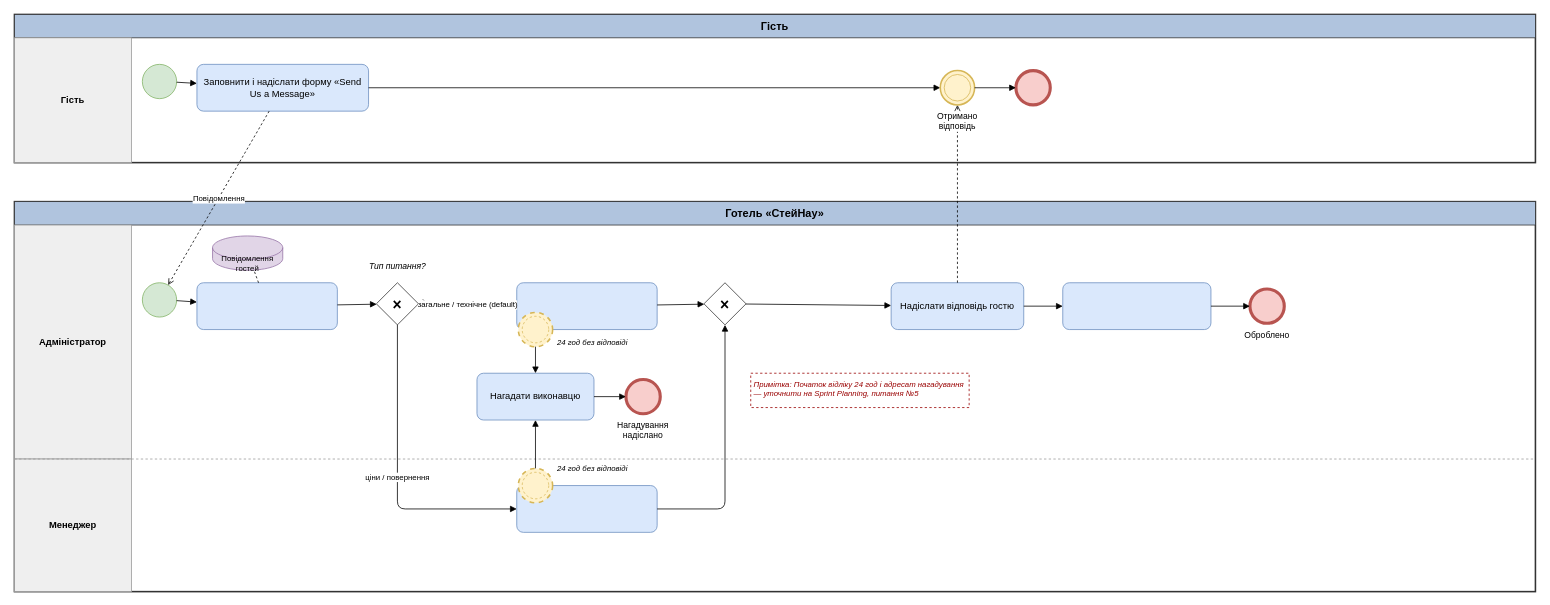
Some shapes in this 1550 by 605 pixel diagram are drawn without their labels. The box of each missing label's shape, as (x1, y1, x2, y2) in pixels:
Гість вирішив написати: (142, 64, 177, 99)
Звернення завершено: (1014, 69, 1051, 106)
Надійшло повідомлення: (142, 282, 177, 317)
Позначити повідомлення обробленим: (1062, 282, 1211, 330)
Прочитати повідомлення у панелі: (196, 282, 337, 330)
Підготувати відповідь (адміністратор): (516, 282, 657, 330)
Підготувати відповідь (менеджер): (516, 485, 657, 532)
